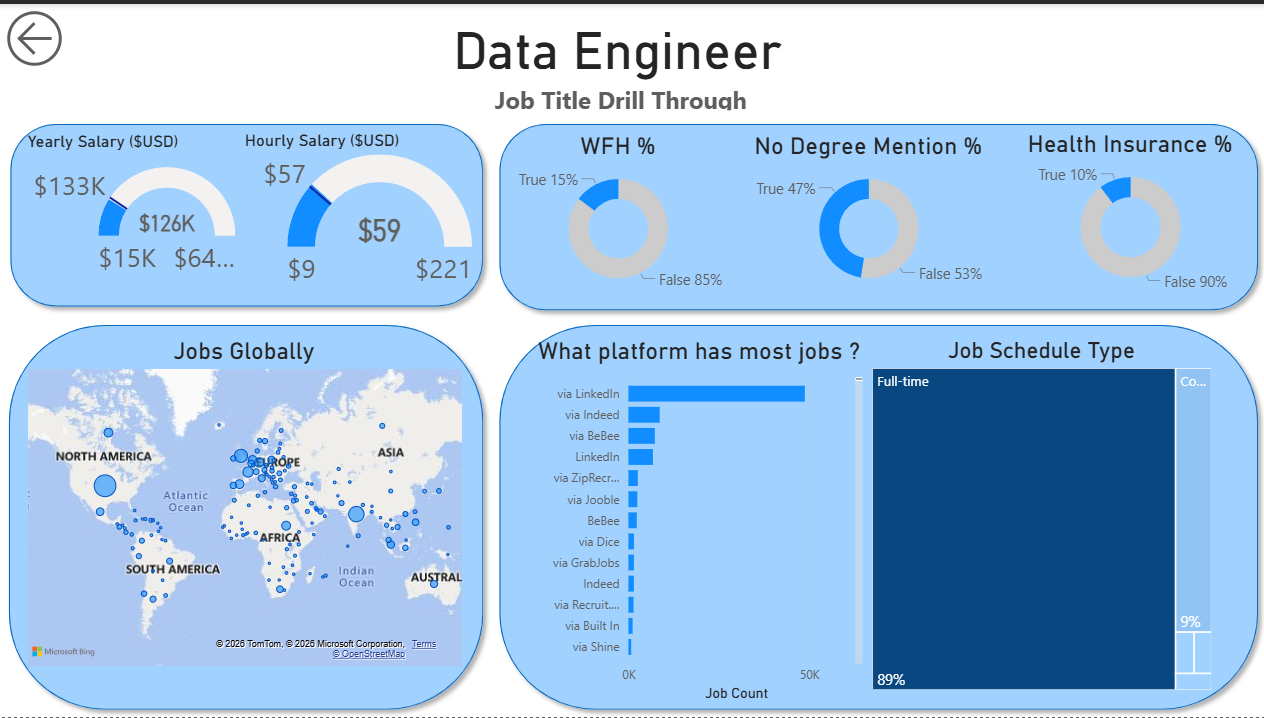

The page's visual inventory and layout, read from the dashboard file:
{"tool":"powerbi","page":{"name":"Job Title Drill Through","canvas":[1280,720],"ordinal":1},"visuals":[{"type":"group","id":"g1","title":"Background","box":[-0.2,111.8,1279.2,608.6],"z":0},{"type":"card","fields":{"Values":["Min(job_postings_flat (1).job_title_short)"]},"box":[371,0,504.2,112.1],"z":1000},{"type":"actionButton","box":[0,0,80.3,69.7],"z":2000},{"type":"shape","box":[1.9,111.9,494.9,202.2],"z":2000,"group":"g1"},{"type":"shape","box":[495.2,111.8,783.8,206.1],"z":3000,"group":"g1"},{"type":"gauge","title":"Yearly Salary ($USD)","fields":{"Y":["Median(job_postings_flat (1).salary_year_avg)"],"MinValue":["Min(job_postings_flat (1).salary_year_avg)1"],"MaxValue":["Max(job_postings_flat (1).salary_year_avg)2"],"TargetValue":["Avg(job_postings_flat (1).salary_year_avg)3"]},"box":[22.4,128.7,219.6,166.5],"z":3000},{"type":"gauge","title":"Hourly Salary ($USD)","fields":{"Y":["Median(job_postings_flat (1).salary_hour_avg)"],"MinValue":["Min(job_postings_flat (1).salary_hour_avg)1"],"MaxValue":["Max(job_postings_flat (1).salary_hour_avg)2"],"TargetValue":["Avg(job_postings_flat (1).salary_hour_avg)3"]},"box":[242,127.3,254.6,167.9],"z":4000},{"type":"shape","box":[-0.2,314,496.9,406.3],"z":4000,"group":"g1"},{"type":"donutChart","title":"WFH %","fields":{"Category":["job_postings_flat (1).job_work_from_home"],"Y":["CountNonNull(job_postings_flat (1).job_work_from_home)"]},"box":[496.7,128.7,254.4,168.1],"z":5000},{"type":"shape","box":[495.2,314,783.8,406.3],"z":5000,"group":"g1"},{"type":"donutChart","title":"No Degree Mention %","fields":{"Y":["CountNonNull(job_postings_flat (1).job_work_from_home)"],"Category":["job_postings_flat (1).job_no_degree_mention"]},"box":[751,128.7,251.4,168.1],"z":6000},{"type":"donutChart","title":"Health Insurance %","fields":{"Y":["CountNonNull(job_postings_flat (1).job_work_from_home)"],"Category":["job_postings_flat (1).job_health_insurance"]},"box":[1002.4,127.2,277.1,168.1],"z":7000},{"type":"map","title":"Jobs Globally","fields":{"Category":["job_postings_flat (1).job_country"],"Size":["CountNonNull(job_postings_flat (1).job_title_short)"]},"box":[22.4,335.8,447.7,337.2],"z":8000},{"type":"treemap","title":"Job Schedule Type","fields":{"Group":["job_postings_flat (1).job_schedule_type"],"Values":["CountNonNull(job_postings_flat (1).job_schedule_type)"]},"box":[875.8,335.8,352.5,360.9],"z":9000},{"type":"barChart","title":"What platform has most jobs ?","fields":{"Category":["job_postings_flat (1).job_via"],"Y":["CountNonNull(job_postings_flat (1).job_via)"]},"box":[535.8,335.8,340,372.1],"z":10000}]}

Visuals, with their boxes in screenshot pixels (x1, y1, x2, y2), scaled from the page's 1280x720 canvas onto the 1264x718 screenshot:
"Background" group: pyautogui.locateOnScreen(0, 111, 1263, 717)
card - Min(job_postings_flat (1).job_title_short): pyautogui.locateOnScreen(366, 0, 864, 112)
actionButton: pyautogui.locateOnScreen(0, 0, 79, 70)
shape: pyautogui.locateOnScreen(2, 112, 491, 313)
shape: pyautogui.locateOnScreen(489, 111, 1263, 317)
"Yearly Salary ($USD)" gauge: pyautogui.locateOnScreen(22, 128, 239, 294)
"Hourly Salary ($USD)" gauge: pyautogui.locateOnScreen(239, 127, 490, 294)
shape: pyautogui.locateOnScreen(0, 313, 490, 717)
"WFH %" donutChart: pyautogui.locateOnScreen(490, 128, 742, 296)
shape: pyautogui.locateOnScreen(489, 313, 1263, 717)
"No Degree Mention %" donutChart: pyautogui.locateOnScreen(742, 128, 990, 296)
"Health Insurance %" donutChart: pyautogui.locateOnScreen(990, 127, 1263, 294)
"Jobs Globally" map: pyautogui.locateOnScreen(22, 335, 464, 671)
"Job Schedule Type" treemap: pyautogui.locateOnScreen(865, 335, 1213, 695)
"What platform has most jobs ?" barChart: pyautogui.locateOnScreen(529, 335, 865, 706)
